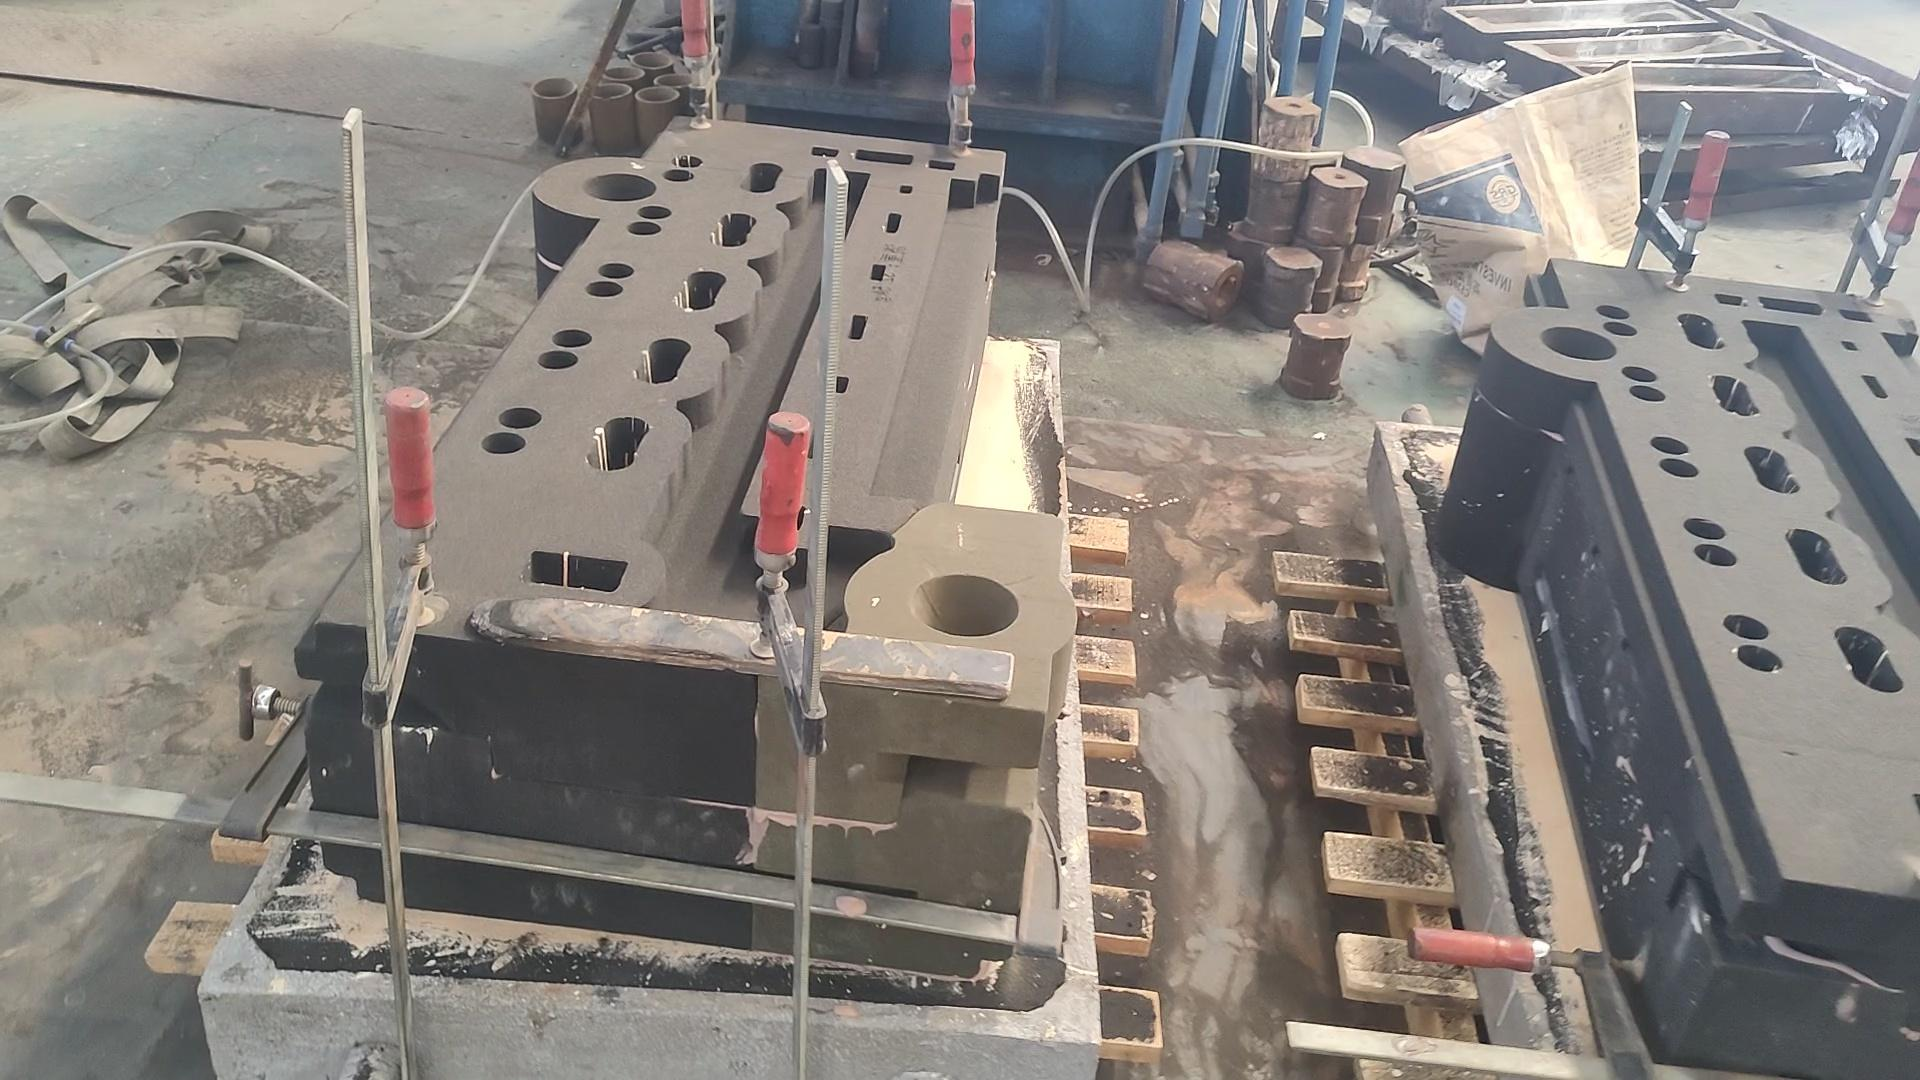pouring hole: (911, 574, 1021, 638), (1538, 323, 1619, 360), (582, 174, 658, 202), (533, 78, 578, 98), (636, 84, 679, 102), (630, 51, 673, 69), (587, 83, 632, 99), (600, 66, 644, 80), (655, 74, 696, 84)
